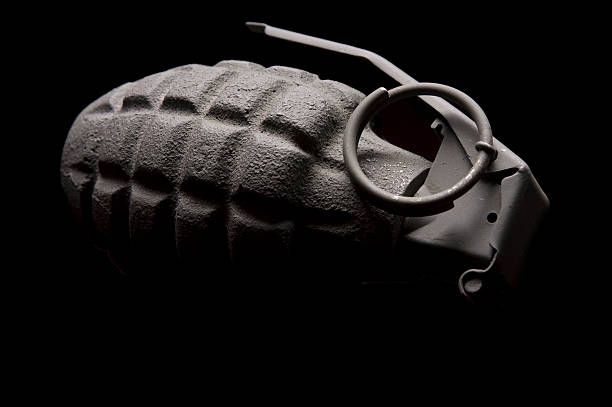e1: (49, 23, 553, 294)
